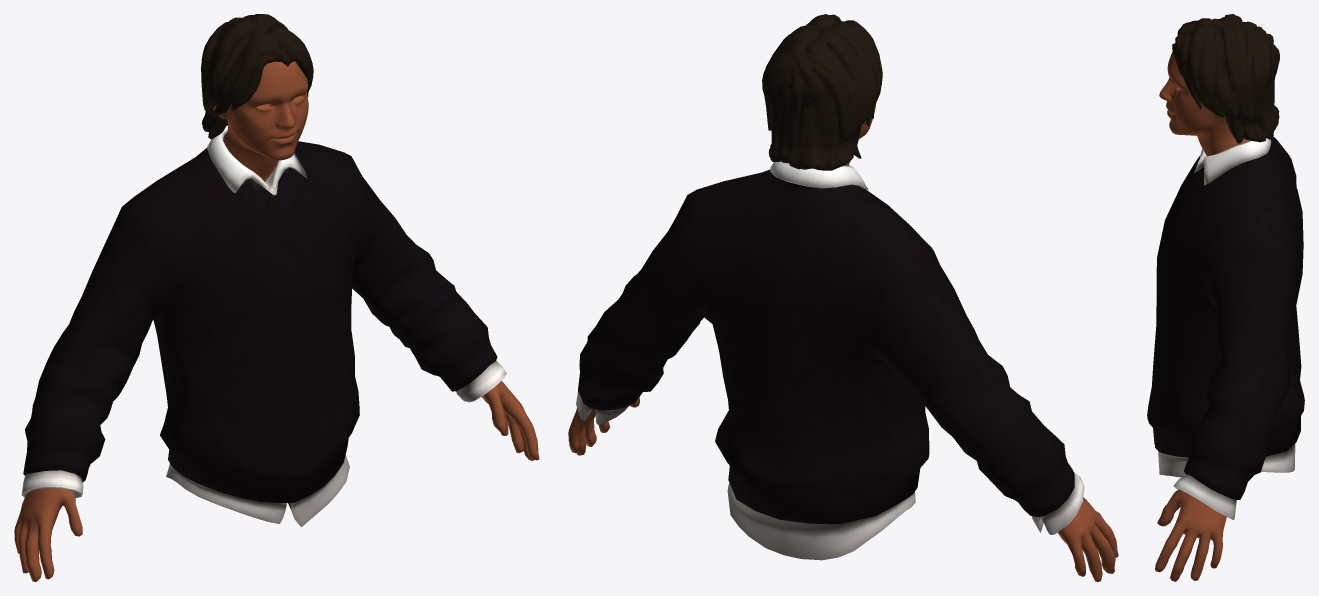
3 renders of one model, left to right at view 1: azimuth 30°, elevation 25°; view 2: azimuth 150°, elevation 25°; view 3: azimuth 270°, elevation 25°, orthographic. The views are drawn at different scales.
Parts seen in each view (by area): view 1: Wolf3D_Outfit_Top.001, Wolf3D_Hair.001, Wolf3D_Head.001, Wolf3D_Body.007; view 2: Wolf3D_Outfit_Top.001, Wolf3D_Hair.001, Wolf3D_Body.007; view 3: Wolf3D_Outfit_Top.001, Wolf3D_Hair.001, Wolf3D_Body.007, Wolf3D_Head.001.
Part boxes in pixels (box(x1,y1,x2,y2)): Wolf3D_Outfit_Top.001: box(21, 125, 506, 527); Wolf3D_Hair.001: box(201, 14, 313, 139); Wolf3D_Head.001: box(213, 61, 308, 181); Wolf3D_Body.007: box(14, 380, 539, 581); Wolf3D_Outfit_Top.001: box(576, 161, 1084, 560); Wolf3D_Hair.001: box(762, 14, 882, 170); Wolf3D_Body.007: box(568, 397, 1118, 581); Wolf3D_Outfit_Top.001: box(1147, 136, 1304, 519); Wolf3D_Hair.001: box(1172, 14, 1279, 143); Wolf3D_Body.007: box(1155, 489, 1226, 581); Wolf3D_Head.001: box(1159, 51, 1249, 156).
Bounding box in the file's own units: 10.29 × 9.38 × 2.97.
Materials: 3 (2 with a texture image).
